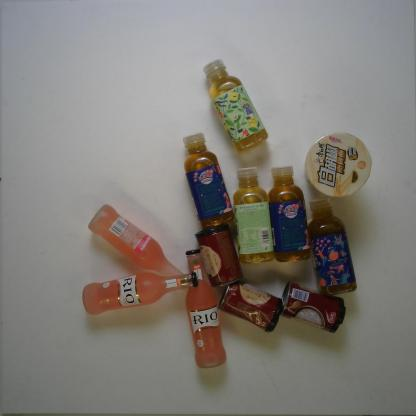Alcohol: (89, 203, 199, 296), (83, 271, 198, 315), (185, 248, 227, 368)
Canned Food: (280, 277, 346, 333), (218, 278, 284, 333), (194, 223, 243, 288)
Drink: (203, 59, 268, 152), (182, 132, 236, 229), (307, 198, 358, 295), (268, 165, 311, 264), (233, 166, 274, 264)
Instant Noodles: (304, 134, 372, 198)
